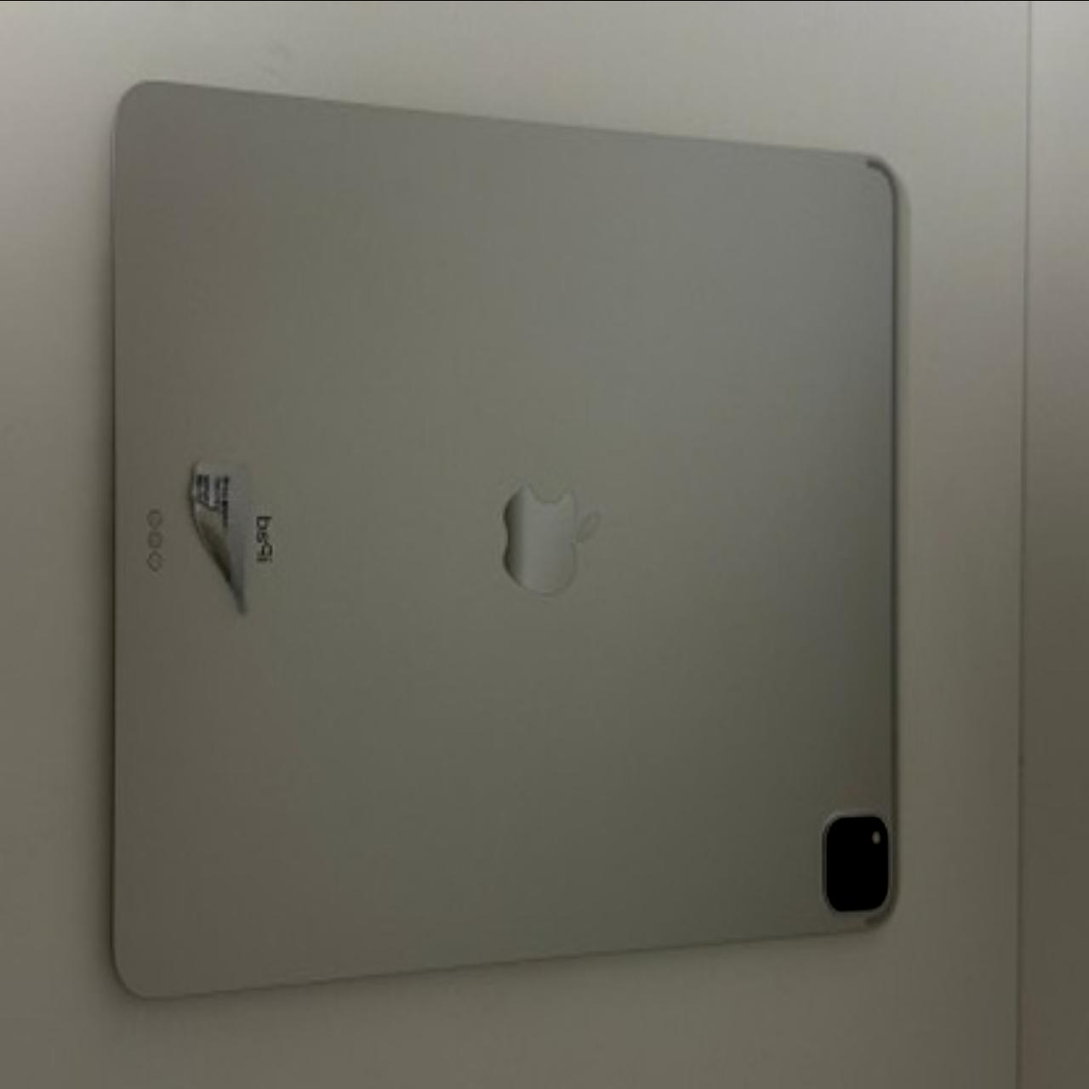Tablet_PC: (79, 60, 911, 1015)
